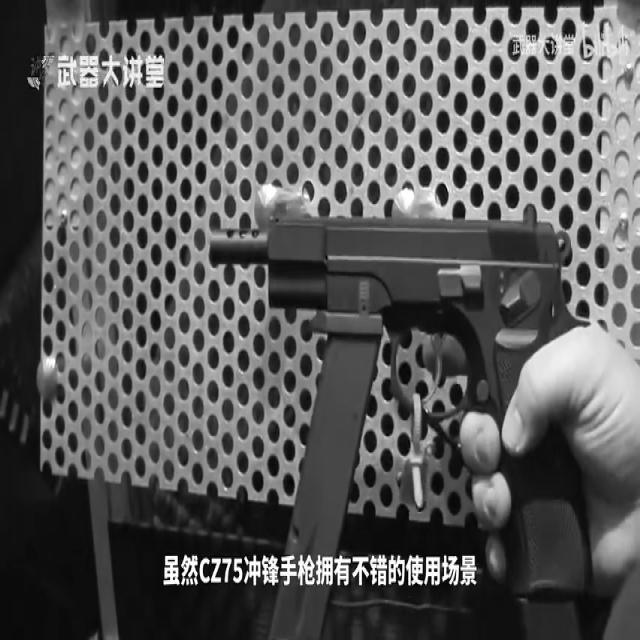Sub-machine-gun: (190, 132, 637, 640)
